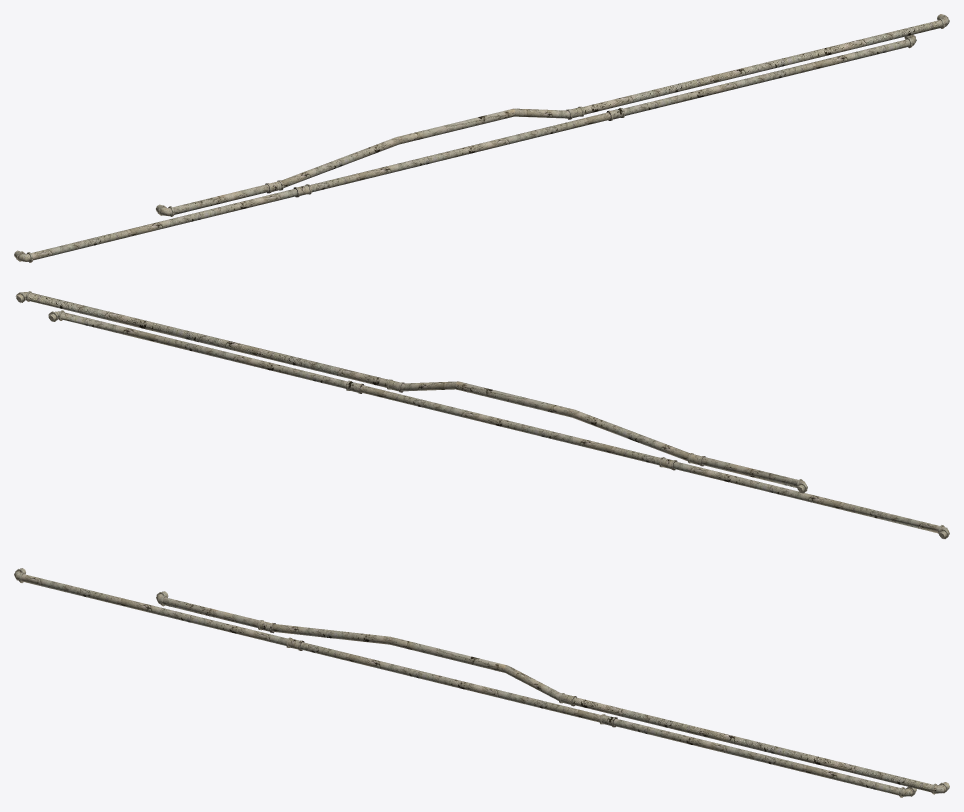
File: prison_pipes001a.glb
The picture shows the model from 3 angles, top to bottom: view 1: azimuth 30°, elevation 25°; view 2: azimuth 150°, elevation 25°; view 3: azimuth 330°, elevation 25°; orthographic projection.
Parts seen in each view (by area): view 1: 0_prison_objects004; view 2: 0_prison_objects004; view 3: 0_prison_objects004.
Boxes of the visible parts, x1,y1,x2,y2 form: 0_prison_objects004: (14,14,949,262); 0_prison_objects004: (15,291,949,538); 0_prison_objects004: (14,568,949,797).
Bounding box in the file's own units: 13 × 0.4747 × 0.2192.
Materials: 1 (1 with a texture image).
